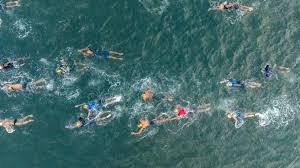swimmer: (130, 112, 179, 138), (64, 112, 117, 133), (74, 94, 125, 115), (77, 45, 125, 62), (0, 112, 34, 134), (169, 104, 213, 120), (214, 77, 263, 91), (137, 91, 179, 107), (0, 79, 47, 93), (206, 1, 256, 14), (225, 110, 261, 127), (258, 63, 288, 82), (51, 63, 74, 80), (0, 58, 33, 69)
